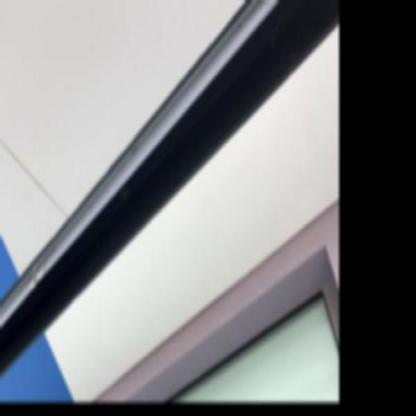light_off: (0, 0, 294, 370)
